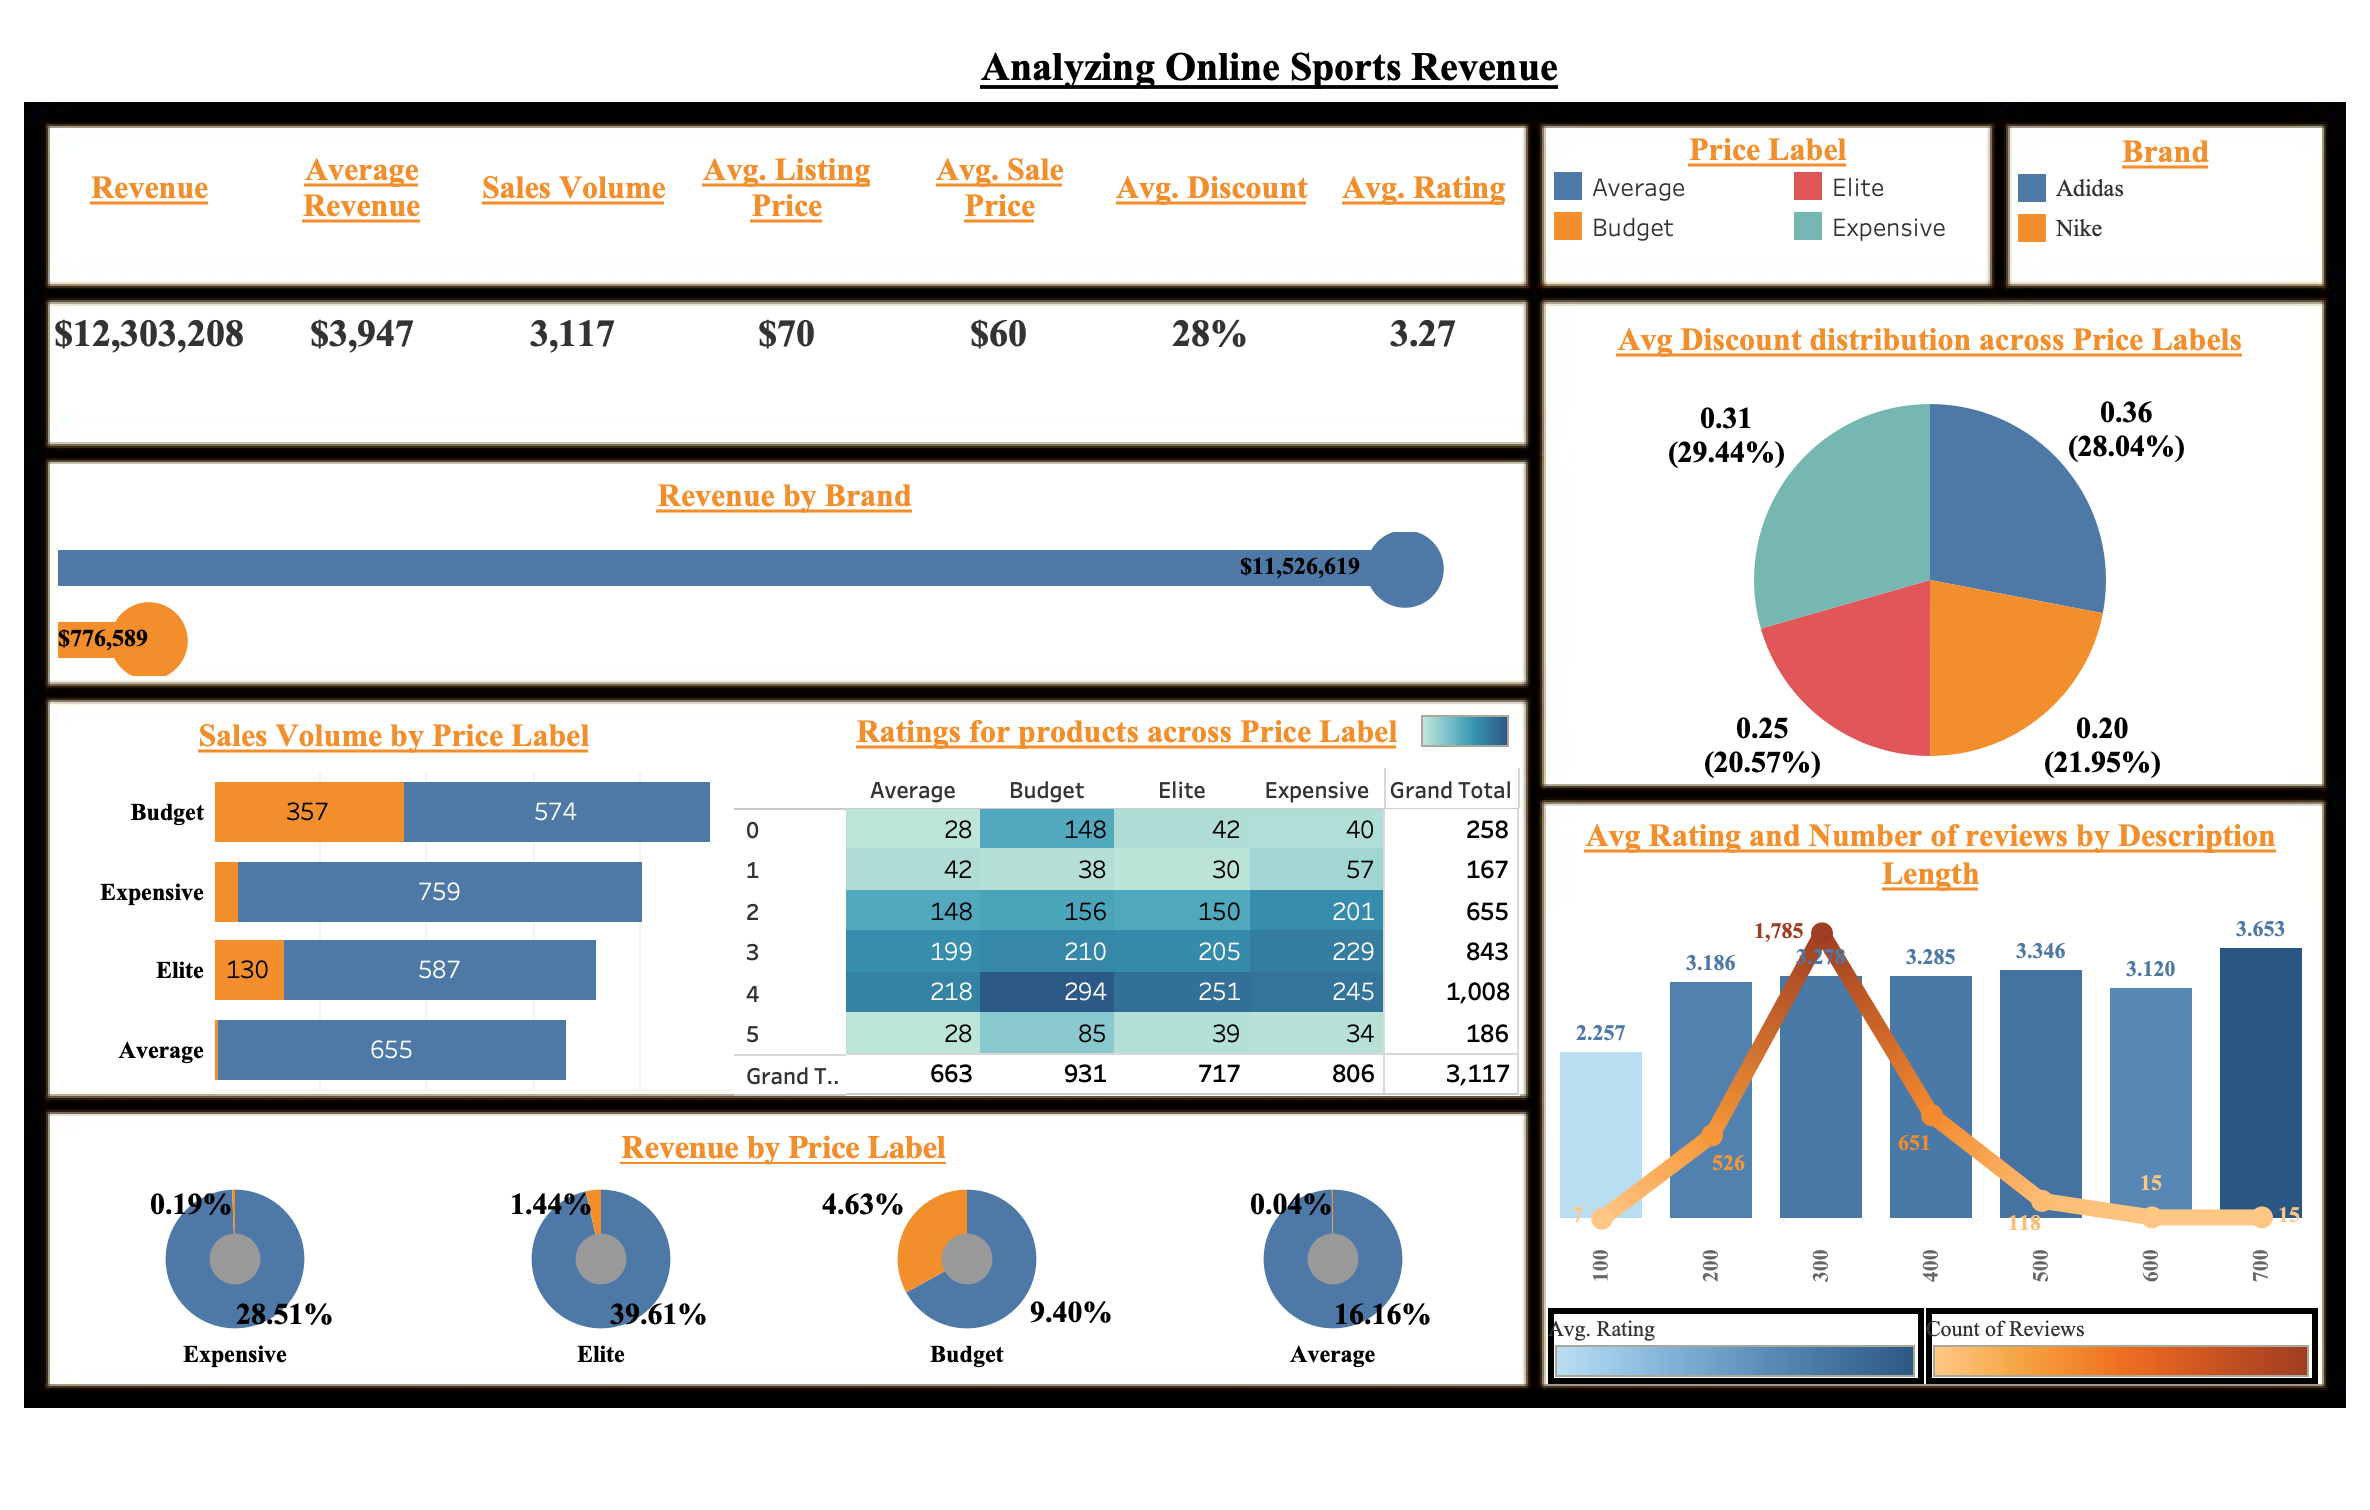

What the dashboard file says about the page in this screenshot:
{"tool":"tableau","page":{"name":"Dashboard","canvas":[1000,1000],"units":"permille","ordinal":0},"visuals":[{"type":"image","param":"/Users/amruthagabbita/Desktop/Portfolio Building Projects/Analyzing Online Sport","box":[6.5,10.6,987,978.8]},{"type":"text","box":[371.3,25.2,329.1,39.7]},{"type":"legend","title":"Discounts across Price labels","param":"[federated.0k8w6gh07r160s1fl6o500ez01ic].[none:Calculation_5420926592620998663:n","box":[653.2,84.8,184,102]},{"type":"legend","title":"Revenue by Brand","param":"[federated.0k8w6gh07r160s1fl6o500ez01ic].[none:brand:nk]","box":[849,86.1,128.3,102]},{"type":"worksheet","title":"KPIs","mark":"Automatic","box":[18.6,98,627,196]},{"type":"worksheet","title":"Discounts across Price labels","mark":"Pie","box":[650.6,205.3,327.4,313.9]},{"type":"worksheet","title":"Revenue by Brand","mark":"Automatic","rows":["brand"],"cols":["revenue","revenue"],"box":[24.5,308.6,613.5,139.1]},{"type":"worksheet","title":"Ratings for products across Price Labels","mark":"Square","rows":["Calculation_5420926593176182807"],"cols":["Calculation_5420926592620998663"],"box":[309.7,464.9,331.7,260.9]},{"type":"worksheet","title":"Sales Volume by Price Label","mark":"Automatic","rows":["Calculation_5420926592620998663"],"cols":["Calculation_5420926592598454275"],"box":[22.8,467.6,286.9,254.3]},{"type":"legend","title":"Ratings for products across Price Labels","param":"[federated.0k8w6gh07r160s1fl6o500ez01ic].[usr:Calculation_5420926592598454275:qk","box":[596.6,468.9,43.9,29.1]},{"type":"worksheet","title":"Avg Rating and Number of reviews by Description Length","mark":"Automatic","rows":["rating","reviews"],"cols":["Calculation_5420926592843386893"],"box":[652.3,533.8,324.9,340.4]},{"type":"worksheet","title":"Revenue by Price Label","mark":"Pie","rows":["Calculation_5420926592632201227","Calculation_5420926592632201227"],"cols":["Calculation_5420926592620998663"],"box":[21.9,743.1,617.7,166.9]},{"type":"legend","title":"Avg Rating and Number of reviews by Description Length","param":"[federated.0k8w6gh07r160s1fl6o500ez01ic].[avg:rating:qk]","box":[653.2,866.2,158.7,50.3]},{"type":"legend","title":"Avg Rating and Number of reviews by Description Length","param":"[federated.0k8w6gh07r160s1fl6o500ez01ic].[cnt:reviews:qk]","box":[812.7,866.2,165.4,50.3]}]}

Visuals, with their boxes on the dashboard's canvas, which has no fixed pixel size, in thousandths of its width and height (x1, y1, x2, y2). These are canvas units, not pixel positions in the 2370x1510 screenshot, which may show the page scaled, cropped or inside an application window:
image: (6,11,994,989)
text: (371,25,700,65)
"Discounts across Price labels" legend: (653,85,837,187)
"Revenue by Brand" legend: (849,86,977,188)
"KPIs" worksheet: (19,98,646,294)
"Discounts across Price labels" worksheet (Pie marks): (651,205,978,519)
"Revenue by Brand" worksheet: (24,309,638,448)
"Ratings for products across Price Labels" worksheet (Square marks): (310,465,641,726)
"Sales Volume by Price Label" worksheet: (23,468,310,722)
"Ratings for products across Price Labels" legend: (597,469,640,498)
"Avg Rating and Number of reviews by Description Length" worksheet: (652,534,977,874)
"Revenue by Price Label" worksheet (Pie marks): (22,743,640,910)
"Avg Rating and Number of reviews by Description Length" legend: (653,866,812,916)
"Avg Rating and Number of reviews by Description Length" legend: (813,866,978,916)
